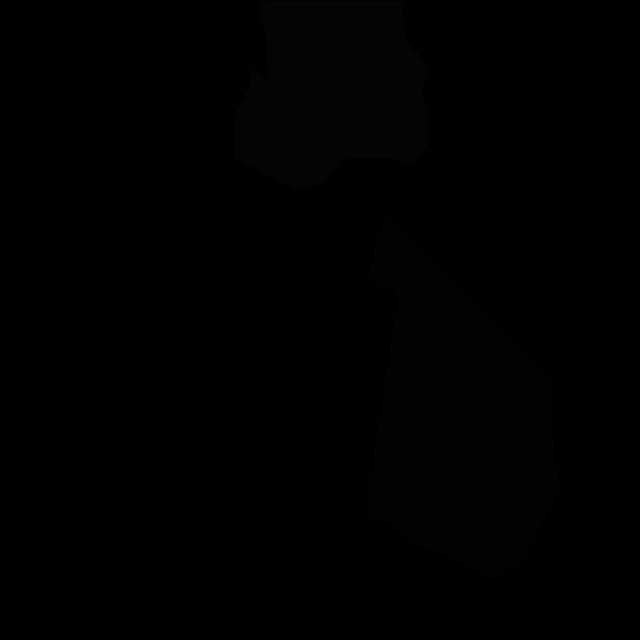cardboard: (367, 214, 561, 583)
soft_plastic: (233, 0, 429, 190)
